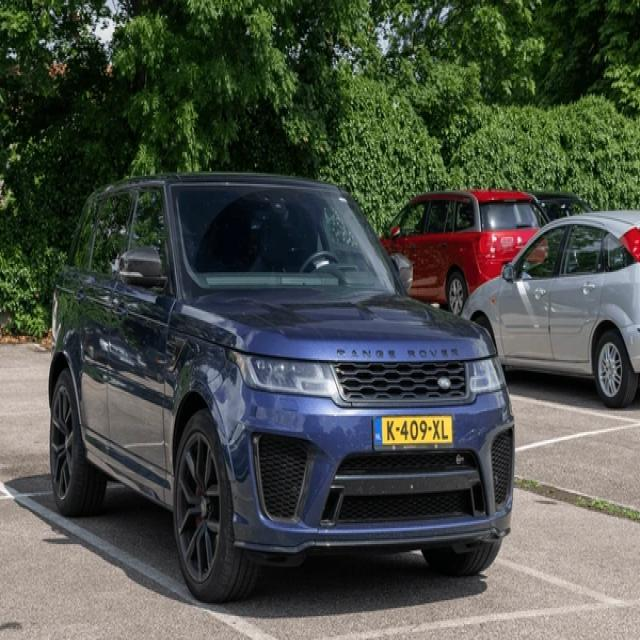rangerover: (335, 346, 460, 360)
